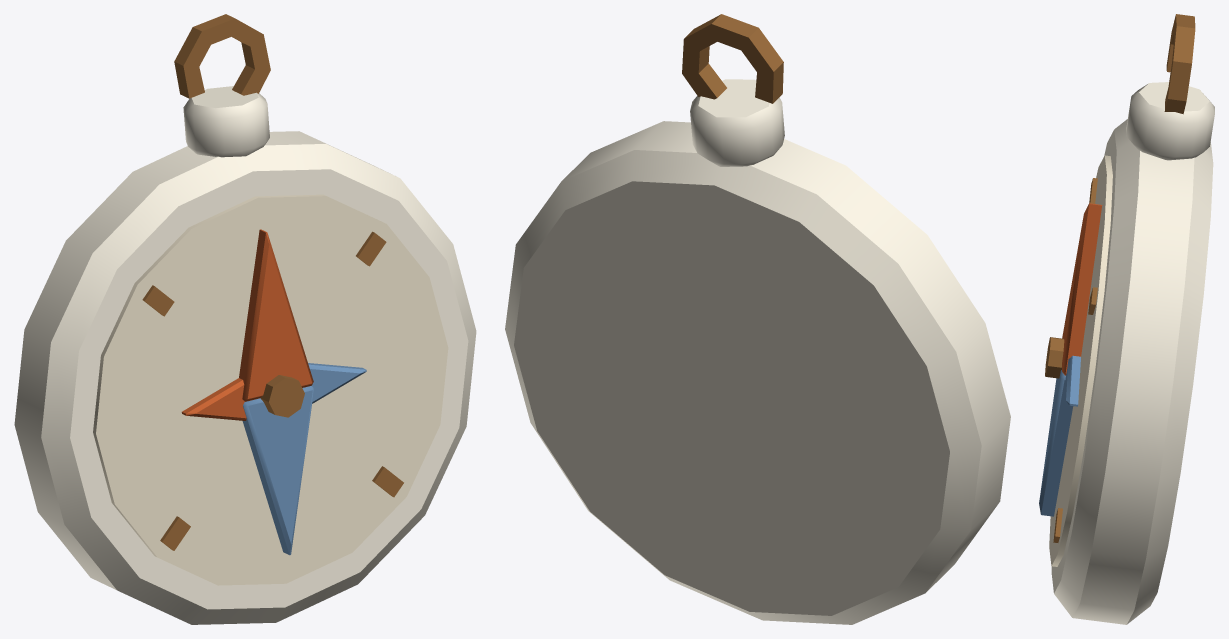
File: ui_compass.glb
3 views of the same model, side by side, from view 1: azimuth 30°, elevation 25°; view 2: azimuth 150°, elevation 25°; view 3: azimuth 270°, elevation 25° (orthographic). The views are drawn at different scales.
Visible parts, largest first — view 1: ui_compass; view 2: ui_compass; view 3: ui_compass.
Boxes of the visible parts, x1=… form: ui_compass: x1=14, y1=14, x2=476, y2=624; ui_compass: x1=505, y1=14, x2=1010, y2=624; ui_compass: x1=1039, y1=14, x2=1214, y2=624.
Bounding box in the file's own units: 0.84 × 1.05 × 0.2885.
1 material, 1 textured.
